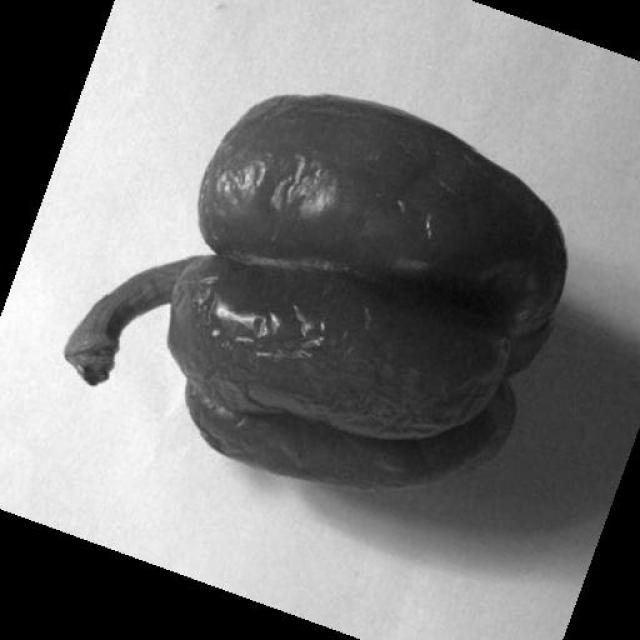Stale_Capsicum: (177, 89, 542, 495)
